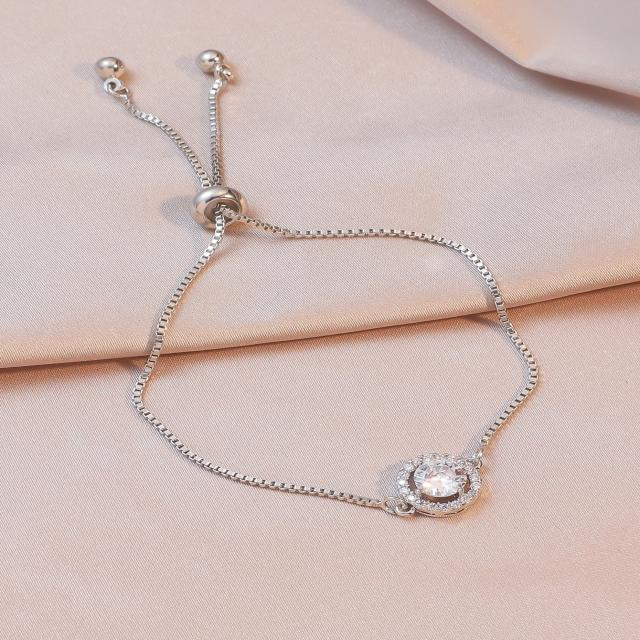bracelet: (32, 6, 640, 573)
